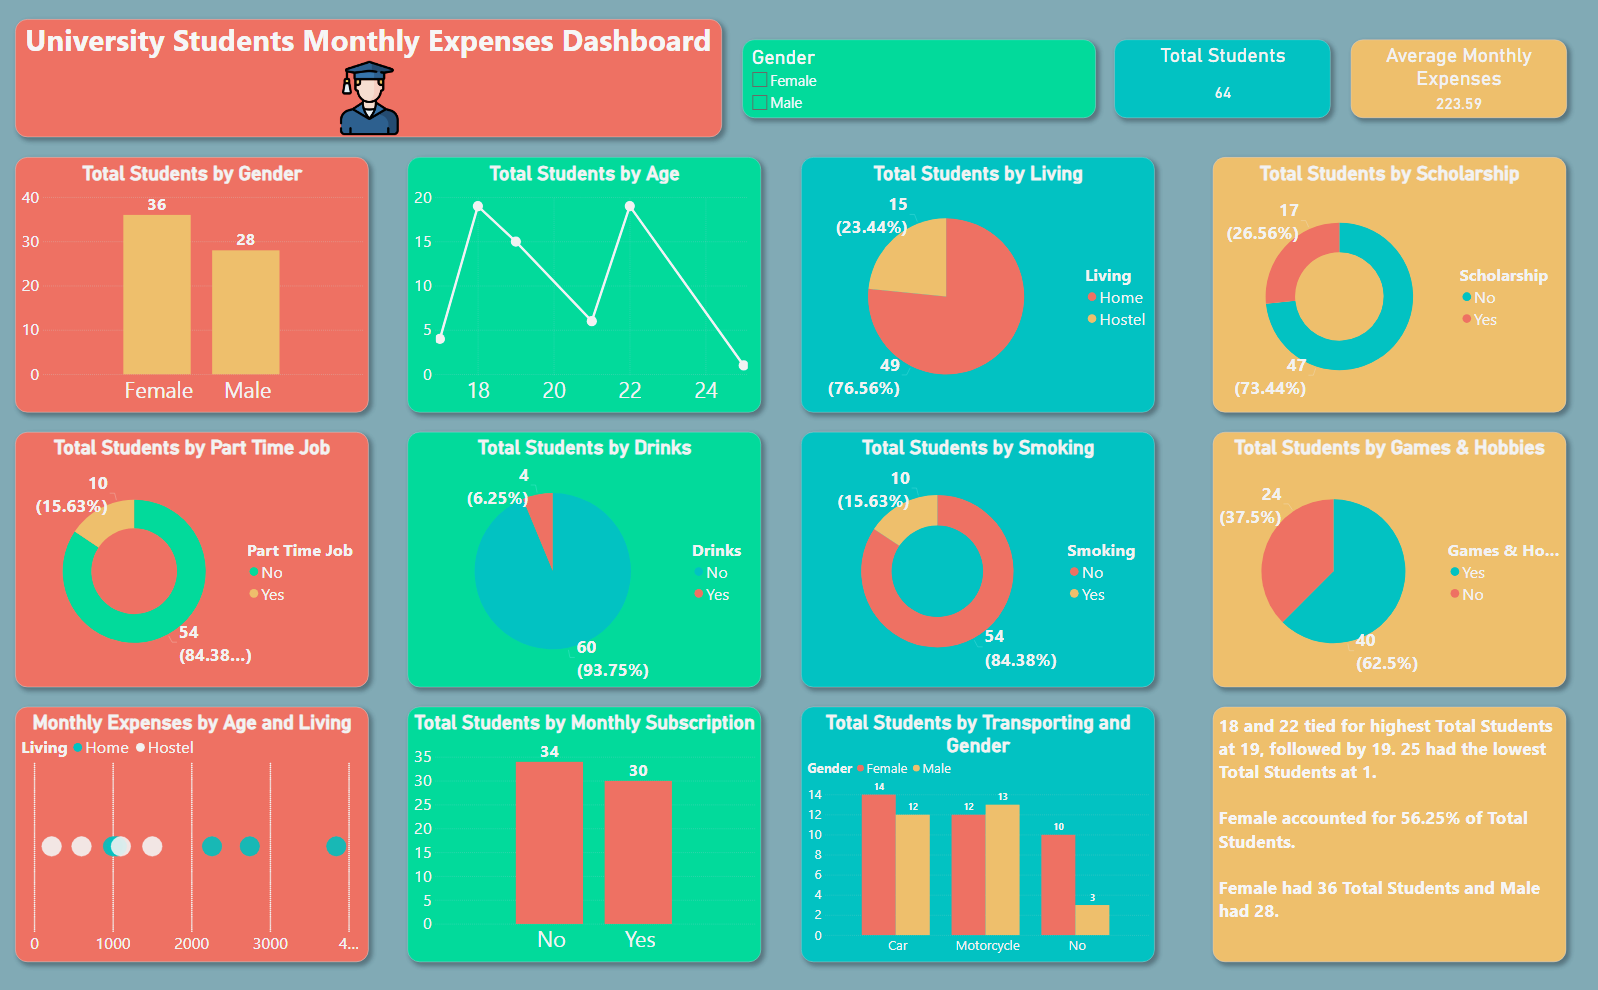

What the dashboard file says about the page in this screenshot:
{"tool":"powerbi","page":{"name":"Main","canvas":[3920,2430],"ordinal":0},"visuals":[{"type":"clusteredColumnChart","fields":{"Category":["University Students Monthly Expenses (2).Gender"],"Y":["University Students Monthly Expenses (2).Total Students"]},"box":[48,384,864,624],"z":0},{"type":"lineChart","fields":{"Category":["University Students Monthly Expenses (2).Age"],"Y":["University Students Monthly Expenses (2).Total Students"]},"box":[1008,384,864,624],"z":1000},{"type":"pieChart","fields":{"Category":["University Students Monthly Expenses (2).Living"],"Y":["University Students Monthly Expenses (2).Total Students"]},"box":[1968,384,864,624],"z":2000},{"type":"donutChart","fields":{"Y":["University Students Monthly Expenses (2).Total Students"],"Category":["University Students Monthly Expenses (2).Scholarship"]},"box":[2976,384,864,624],"z":2001},{"type":"donutChart","fields":{"Category":["University Students Monthly Expenses (2).Part_time_job"],"Y":["University Students Monthly Expenses (2).Total Students"]},"box":[48,1056,864,624],"z":2002},{"type":"pieChart","fields":{"Y":["University Students Monthly Expenses (2).Total Students"],"Category":["University Students Monthly Expenses (2).Drinks"]},"box":[1008,1056,864,624],"z":2003},{"type":"donutChart","fields":{"Category":["University Students Monthly Expenses (2).Smoking"],"Y":["University Students Monthly Expenses (2).Total Students"]},"box":[1968,1056,864,624],"z":2004},{"type":"pieChart","fields":{"Category":["University Students Monthly Expenses (2).Games_&_Hobbies"],"Y":["University Students Monthly Expenses (2).Total Students"]},"box":[2976,1056,864,624],"z":2005},{"type":"scatterChart","fields":{"Category":["University Students Monthly Expenses (2).Age"],"X":["Sum(University Students Monthly Expenses (2).Monthly_expenses_$)"],"Series":["University Students Monthly Expenses (2).Living"]},"box":[48,1728,864,624],"z":2006},{"type":"clusteredColumnChart","fields":{"Category":["University Students Monthly Expenses (2).Monthly_Subscription"],"Y":["University Students Monthly Expenses (2).Total Students"]},"box":[1008,1728,864,624],"z":2007},{"type":"clusteredColumnChart","fields":{"Category":["University Students Monthly Expenses (2).Transporting"],"Y":["University Students Monthly Expenses (2).Total Students"],"Series":["University Students Monthly Expenses (2).Gender"]},"box":[1968,1728,864,624],"z":2008},{"type":"card","title":"Average Monthly Expenses","fields":{"Values":["Avg(University Students Monthly Expenses (2).Monthly_expenses_$)"]},"box":[3312,96,528,192],"z":2009},{"type":"textbox","box":[2976,1728,864,624],"z":2010},{"type":"card","title":"Total Students","fields":{"Values":["University Students Monthly Expenses (2).Total Students"]},"box":[2736,96,528,192],"z":2011},{"type":"slicer","fields":{"Values":["University Students Monthly Expenses (2).Gender"]},"box":[1824,96,864,192],"z":2012},{"type":"textbox","box":[48,48,1728,288],"z":2013},{"type":"image","box":[768,144,288,192],"z":2014}]}

Visuals, with their boxes in screenshot pixels (x1, y1, x2, y2), scaled from the page's 3920x2430 canvas onto the 1598x990 screenshot:
clusteredColumnChart - University Students Monthly Expenses (2).Gender x University Students Monthly Expenses (2).Total Students: box(20, 156, 372, 411)
lineChart - University Students Monthly Expenses (2).Age x University Students Monthly Expenses (2).Total Students: box(411, 156, 763, 411)
pieChart - University Students Monthly Expenses (2).Living x University Students Monthly Expenses (2).Total Students: box(802, 156, 1154, 411)
donutChart - University Students Monthly Expenses (2).Total Students x University Students Monthly Expenses (2).Scholarship: box(1213, 156, 1565, 411)
donutChart - University Students Monthly Expenses (2).Part_time_job x University Students Monthly Expenses (2).Total Students: box(20, 430, 372, 684)
pieChart - University Students Monthly Expenses (2).Total Students x University Students Monthly Expenses (2).Drinks: box(411, 430, 763, 684)
donutChart - University Students Monthly Expenses (2).Smoking x University Students Monthly Expenses (2).Total Students: box(802, 430, 1154, 684)
pieChart - University Students Monthly Expenses (2).Games_&_Hobbies x University Students Monthly Expenses (2).Total Students: box(1213, 430, 1565, 684)
scatterChart - University Students Monthly Expenses (2).Age x Sum(University Students Monthly Expenses (2).Monthly_expenses_$): box(20, 704, 372, 958)
clusteredColumnChart - University Students Monthly Expenses (2).Monthly_Subscription x University Students Monthly Expenses (2).Total Students: box(411, 704, 763, 958)
clusteredColumnChart - University Students Monthly Expenses (2).Transporting x University Students Monthly Expenses (2).Total Students: box(802, 704, 1154, 958)
"Average Monthly Expenses" card: box(1350, 39, 1565, 117)
textbox: box(1213, 704, 1565, 958)
"Total Students" card: box(1115, 39, 1331, 117)
slicer - University Students Monthly Expenses (2).Gender: box(744, 39, 1096, 117)
textbox: box(20, 20, 724, 137)
image: box(313, 59, 430, 137)
